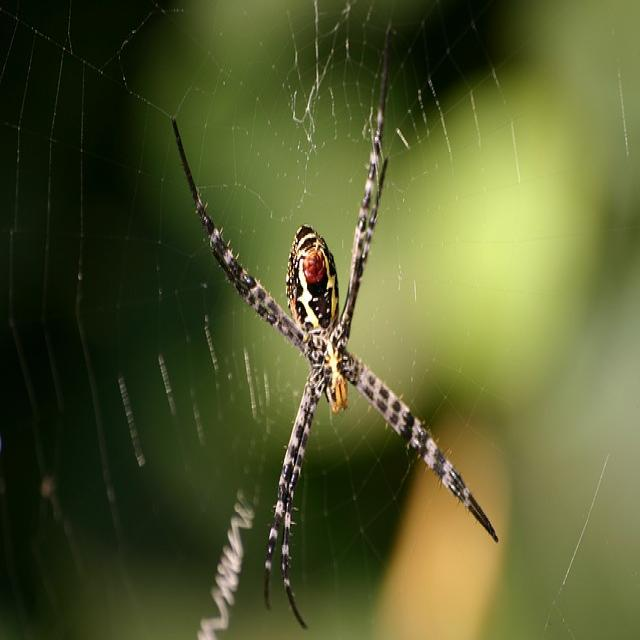spyder: (172, 30, 498, 626)
